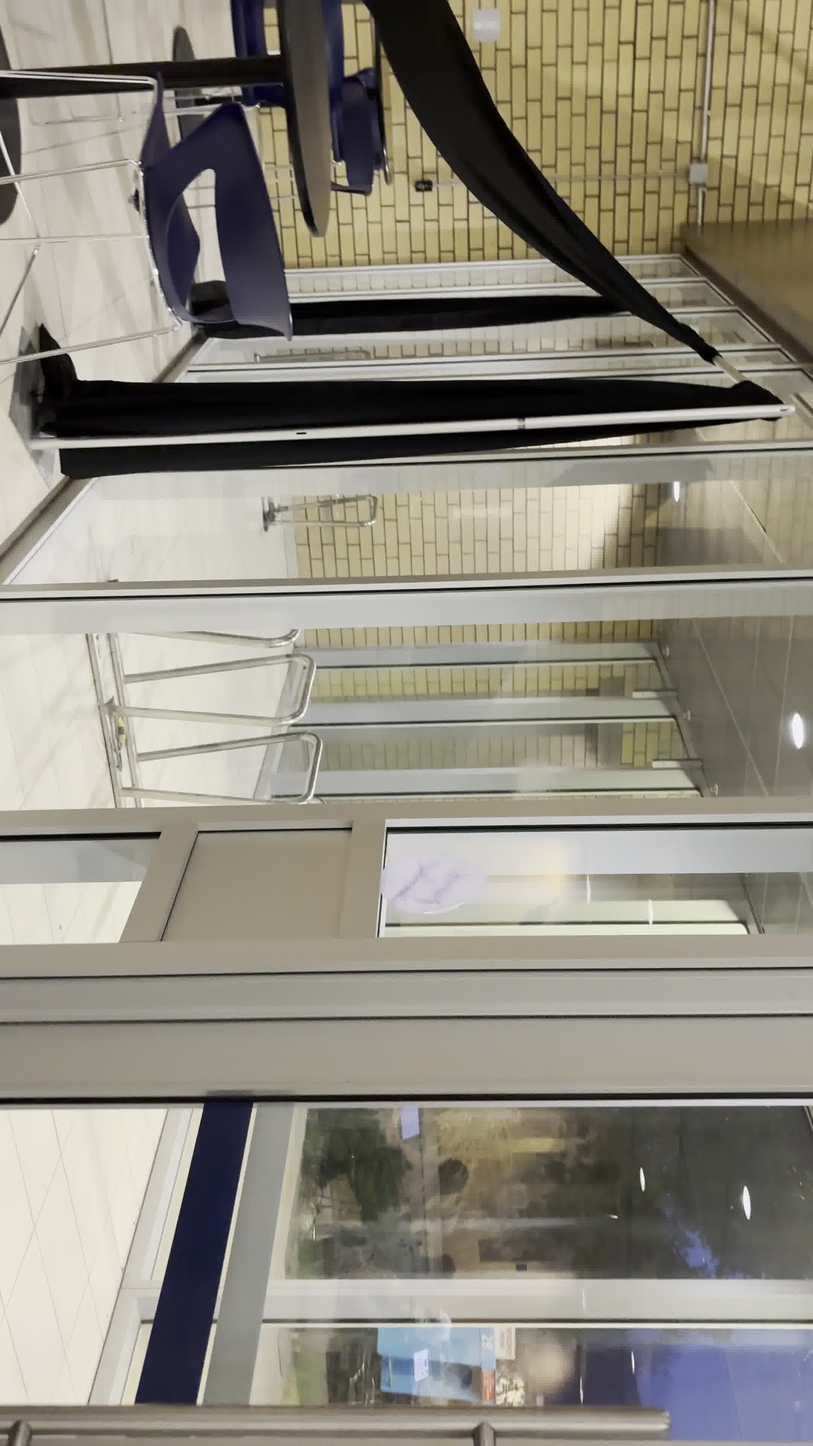Target: (377, 848, 487, 916)
